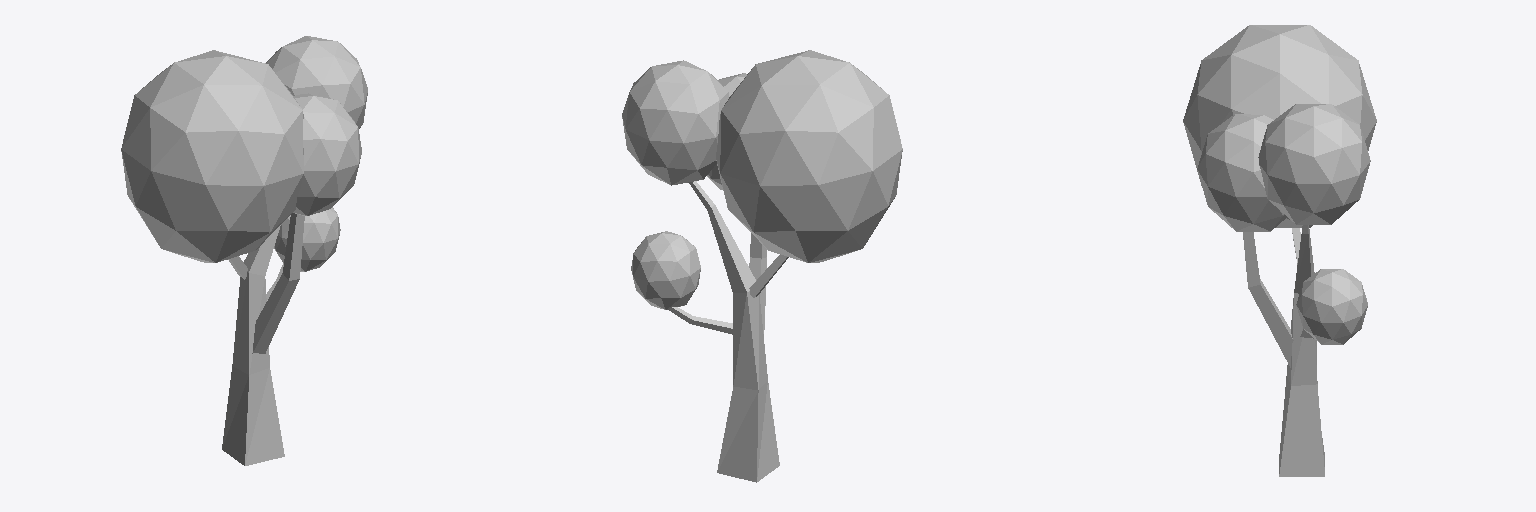
Rendered from BU_trees_published_001.obj.
3 renders of one model, left to right at view 1: azimuth 30°, elevation 25°; view 2: azimuth 150°, elevation 25°; view 3: azimuth 270°, elevation 25°, orthographic.
Parts seen in each view (by area): view 1: Tree_001_GEO; view 2: Tree_001_GEO; view 3: Tree_001_GEO.
Boxes of the visible parts, x1,y1,x2,y2 form: Tree_001_GEO: [121, 36, 367, 465]; Tree_001_GEO: [622, 50, 902, 482]; Tree_001_GEO: [1183, 25, 1376, 476].
Size of the model in its own units: 2.8 by 4.61 by 1.96.